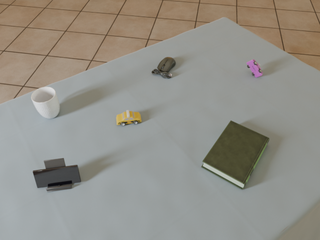book: (201, 121, 269, 189)
cup: (31, 87, 60, 118)
mouse: (152, 57, 175, 78)
phone: (33, 165, 81, 188)
toy_car: (116, 110, 141, 126), (247, 60, 263, 77)
